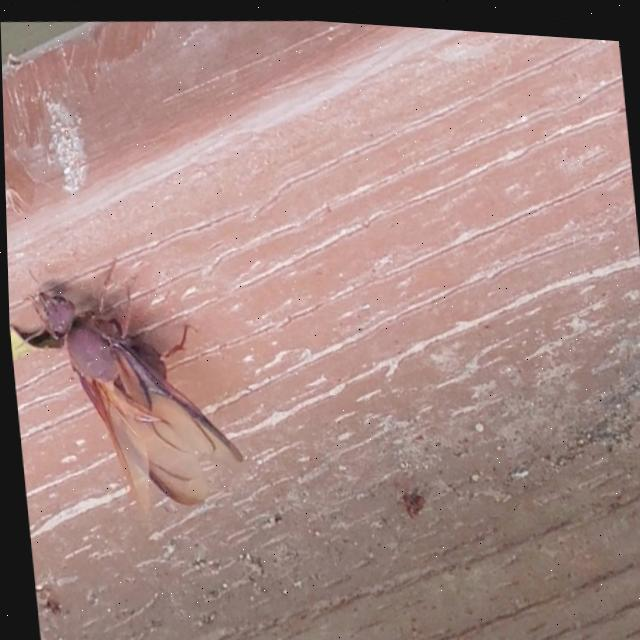Alive-Female-Alate: (6, 242, 245, 523)
